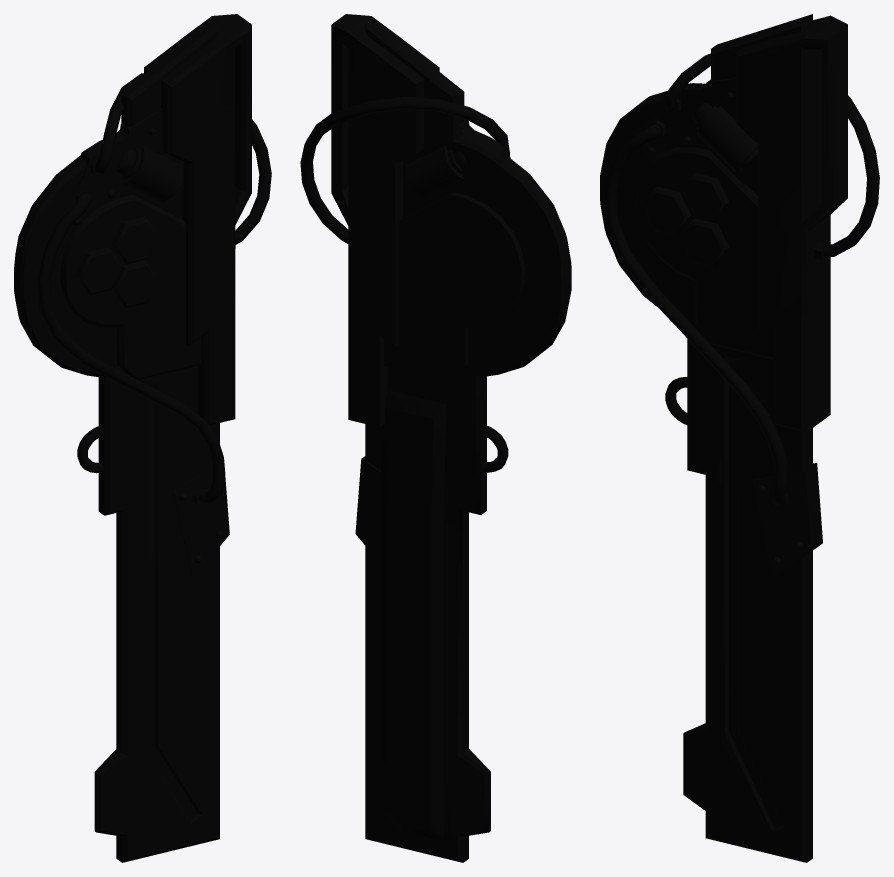
The model's file is Bainha.fbx.
3 renders of one model, left to right at view 1: azimuth 30°, elevation 25°; view 2: azimuth 150°, elevation 25°; view 3: azimuth 330°, elevation 25°, orthographic. The views are drawn at different scales.
Parts seen in each view (by area): view 1: Bainha; view 2: Bainha; view 3: Bainha.
Part boxes in pixels (x1,y1,x2,y2): Bainha: (14, 14, 271, 862); Bainha: (300, 14, 571, 862); Bainha: (600, 14, 879, 862).
Bounding box in the file's own units: 23.53 × 70.8 × 6.54.
